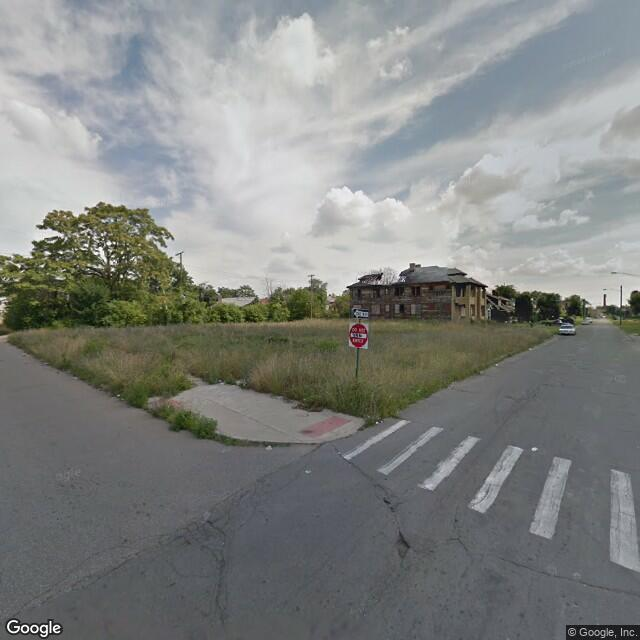litter: (368, 414, 385, 425), (264, 441, 273, 454), (528, 443, 539, 452), (113, 391, 126, 398), (235, 376, 245, 385), (525, 347, 533, 353), (491, 363, 499, 368), (216, 381, 225, 385)
